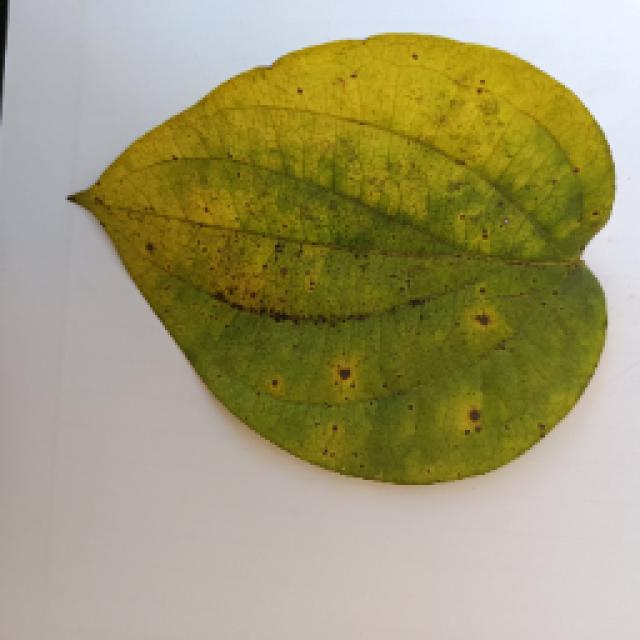slow-decline: (40, 32, 615, 490)
